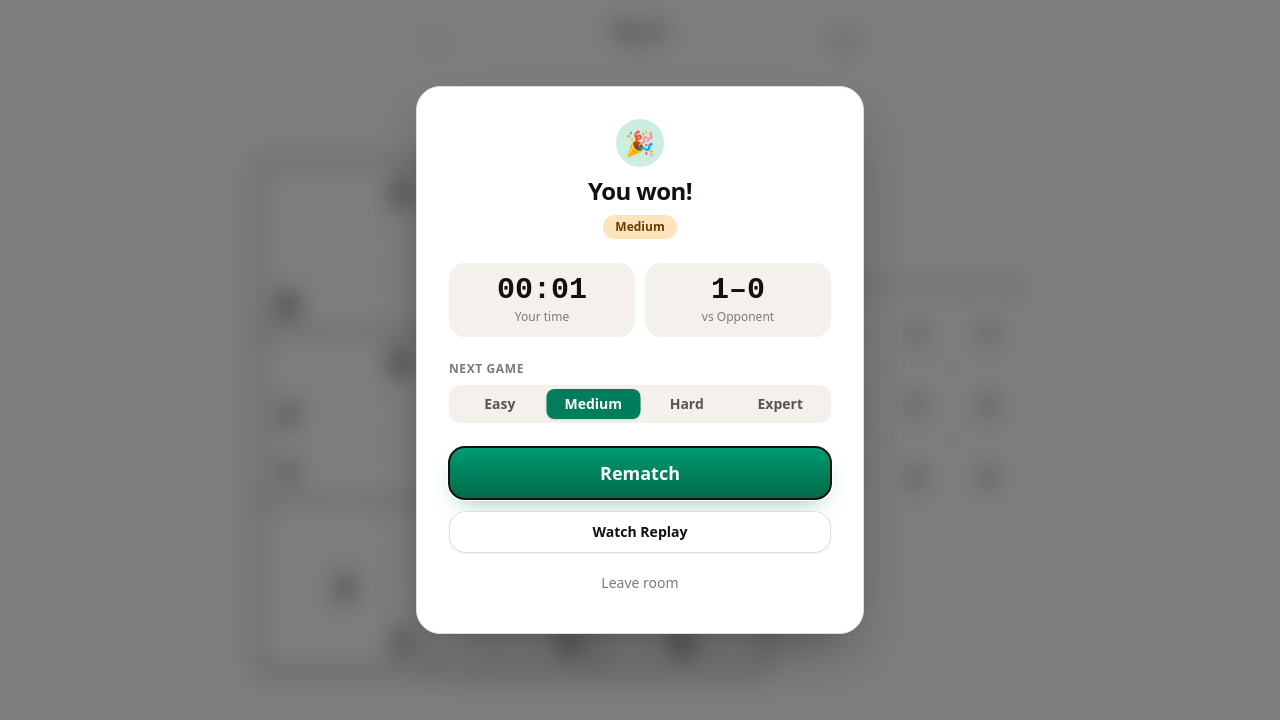
Test: MultiplayerGame replay › replays the opponent's board from the room
The width and height of the screenshot is (1280, 720).
Click the button "Watch Replay" at (640, 532), box [449, 511, 831, 553]
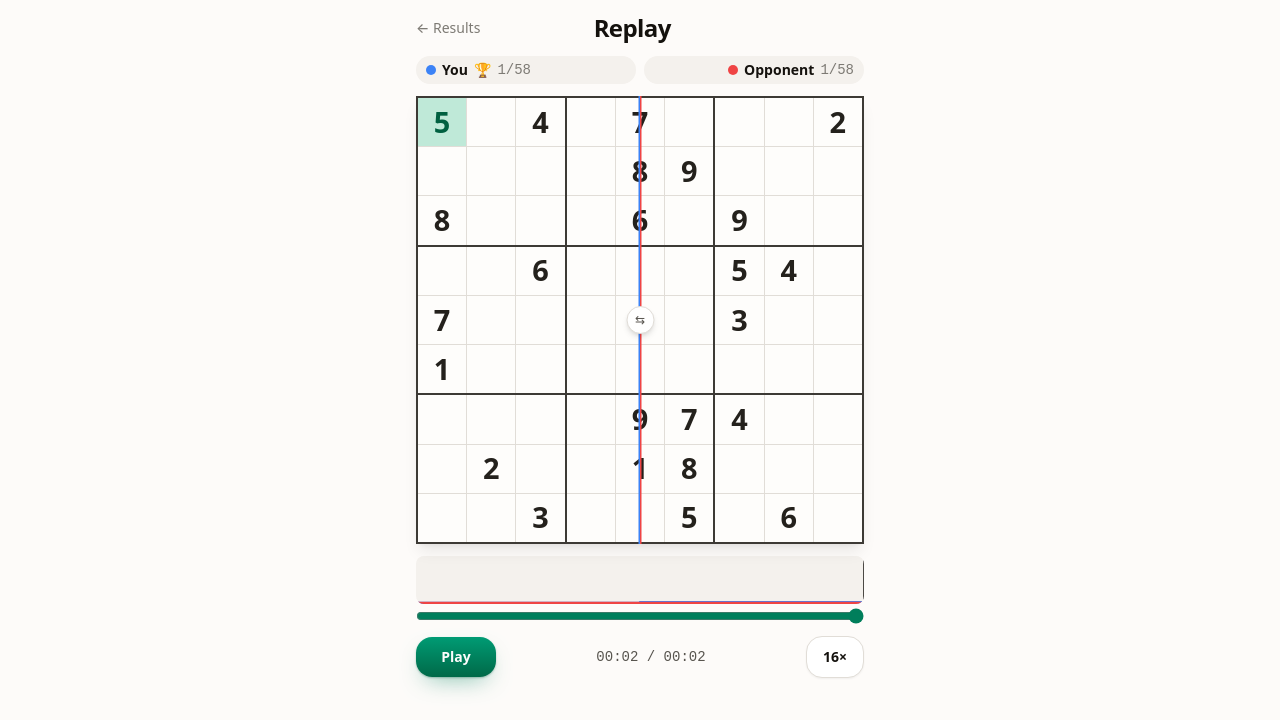
Check: the element named "Board: Opponent" is shown, box [416, 96, 864, 544]
